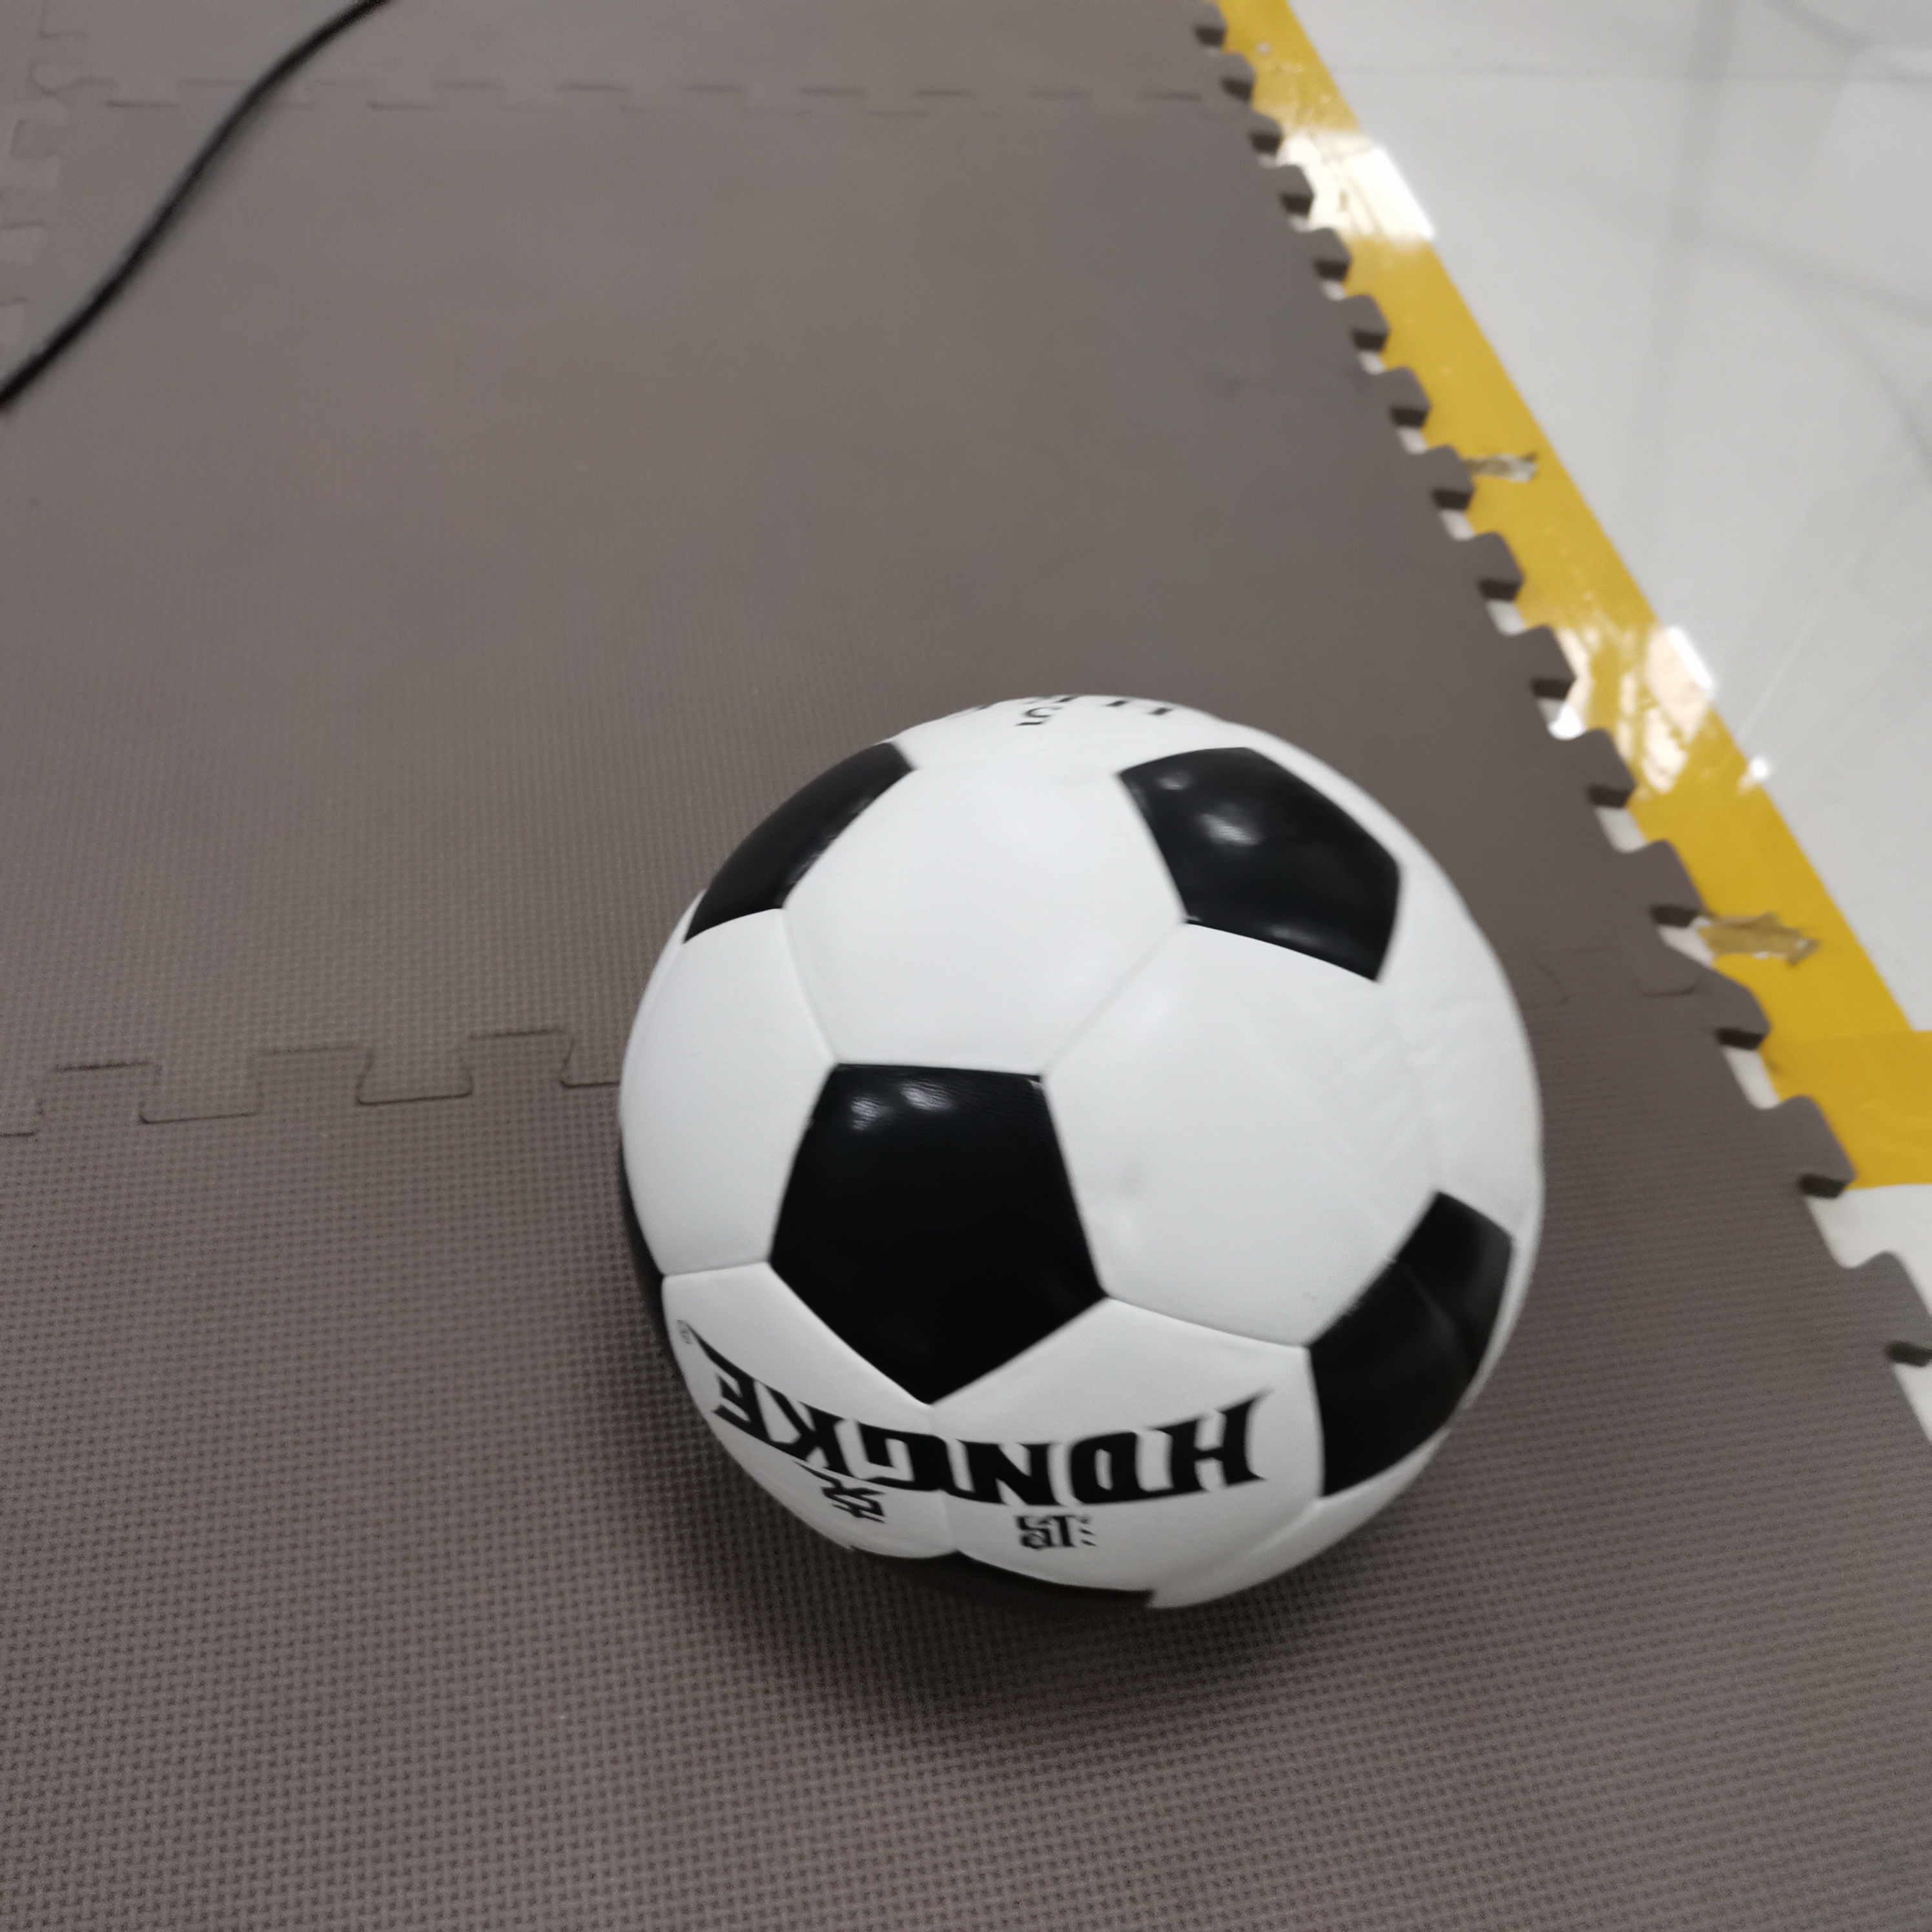football: (621, 685, 1539, 1619)
